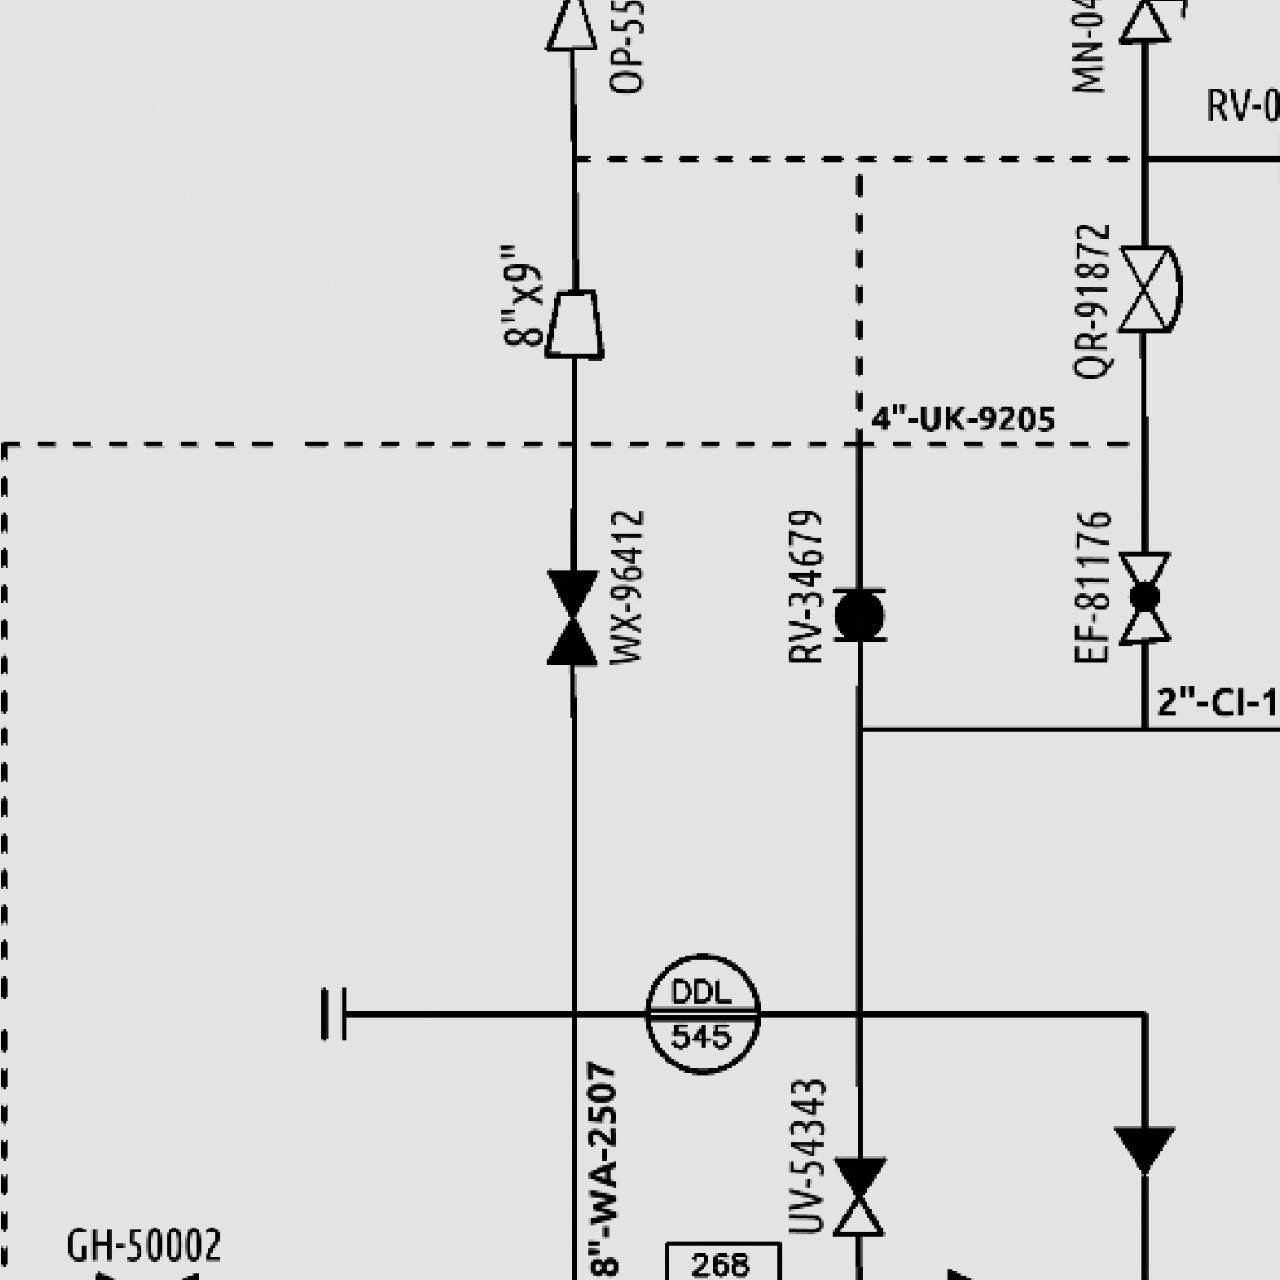Control-Panel: (638, 949, 765, 1077)
Half closed valve: (828, 1152, 888, 1239)
